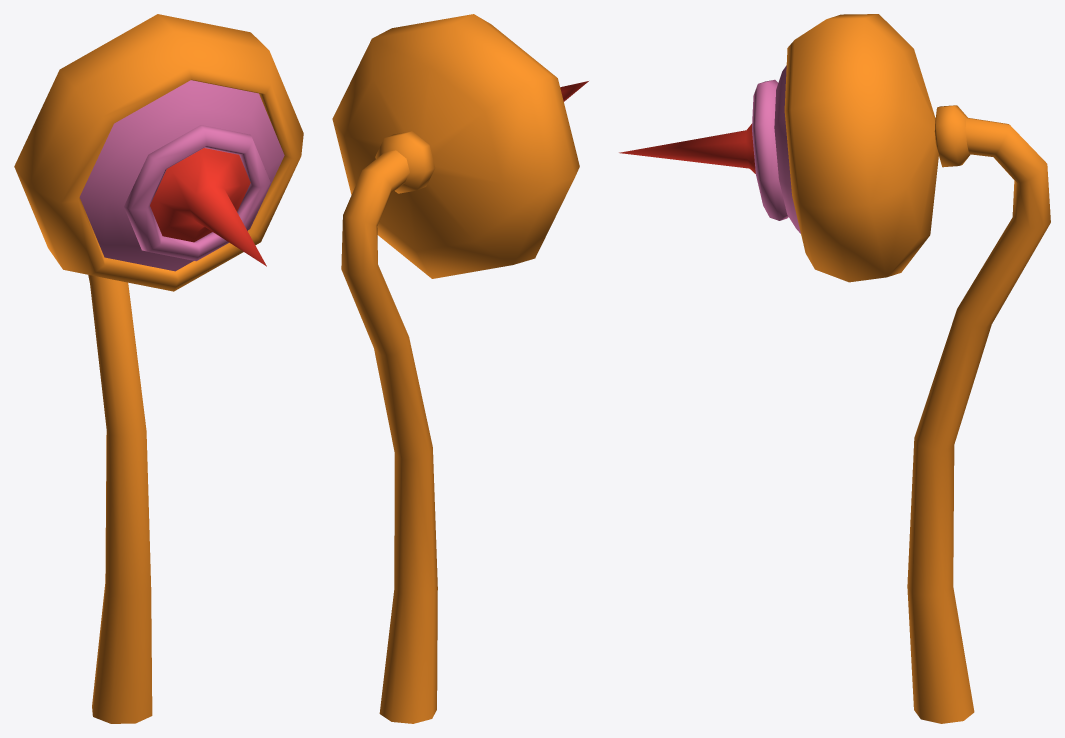
File: Plant_1_3_yellow.fbx
The picture shows the model from 3 angles, left to right: view 1: azimuth 30°, elevation 25°; view 2: azimuth 150°, elevation 25°; view 3: azimuth 270°, elevation 25°; orthographic projection. The views are drawn at different scales.
Parts seen in each view (by area): view 1: Plant_1_3_yellow; view 2: Plant_1_3_yellow; view 3: Plant_1_3_yellow.
Part boxes in pixels (x1=…): Plant_1_3_yellow: x1=14, y1=14, x2=303, y2=723; Plant_1_3_yellow: x1=332, y1=14, x2=588, y2=723; Plant_1_3_yellow: x1=619, y1=14, x2=1050, y2=723.
Size of the model in its own units: 0.9337 by 2.48 by 1.41.
